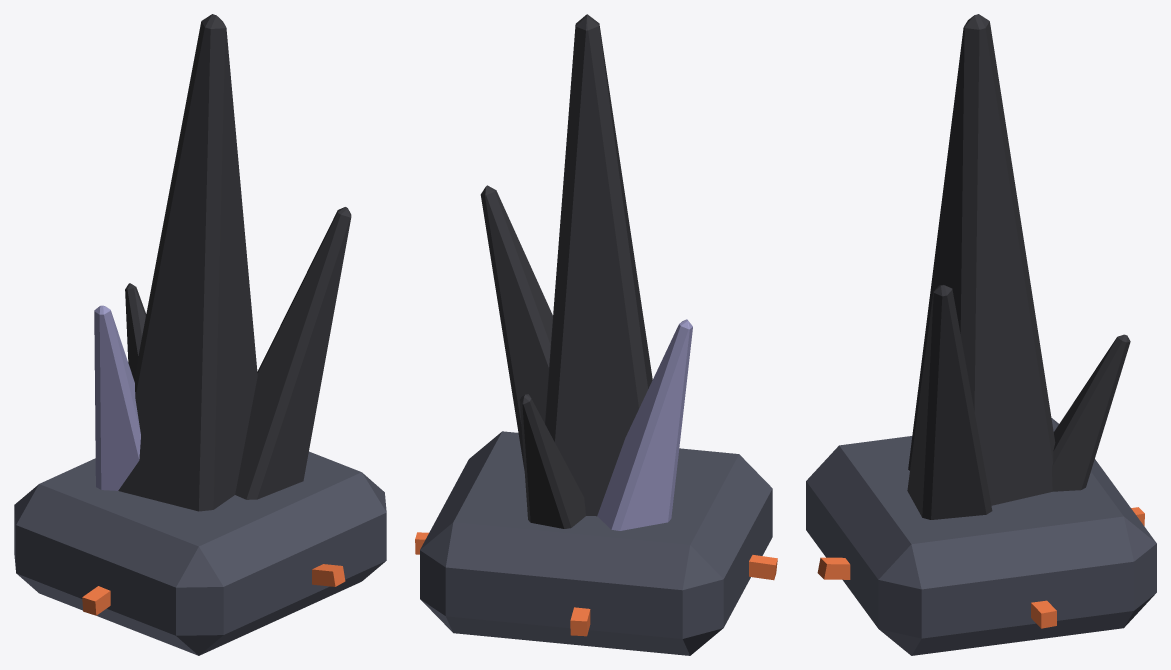
The model's file is obsidian.glb.
3 renders of one model, left to right at view 1: azimuth 30°, elevation 25°; view 2: azimuth 150°, elevation 25°; view 3: azimuth 270°, elevation 25°, orthographic. The views are drawn at different scales.
Parts seen in each view (by area): view 1: obsidian, glow-obsidian; view 2: obsidian, glow-obsidian; view 3: obsidian, glow-obsidian.
Boxes of the visible parts, box(x1,y1,x2,y2) form: obsidian: box(14, 14, 386, 655); glow-obsidian: box(82, 564, 345, 615); obsidian: box(420, 14, 772, 655); glow-obsidian: box(415, 532, 777, 636); obsidian: box(806, 14, 1156, 655); glow-obsidian: box(817, 507, 1144, 628).
Size of the model in its own units: 0.6523 by 1.15 by 0.6259.
Materials: 1 (1 with a texture image).
